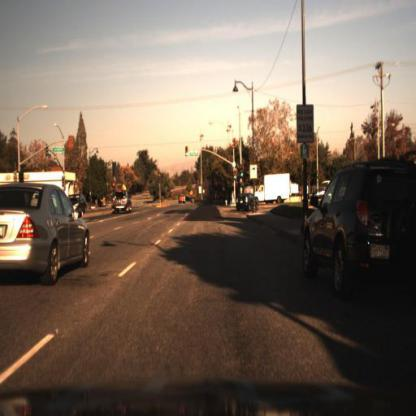car: (301, 157, 416, 303), (1, 175, 91, 287), (254, 174, 292, 208), (109, 187, 134, 218), (235, 192, 262, 215), (235, 190, 260, 213), (112, 190, 134, 213)
trafficLight-Green: (183, 143, 190, 159), (184, 146, 190, 160), (233, 167, 238, 182), (240, 171, 245, 182)
trafficLight-Red: (157, 171, 163, 184), (111, 179, 118, 189)
truck: (258, 169, 297, 210)
